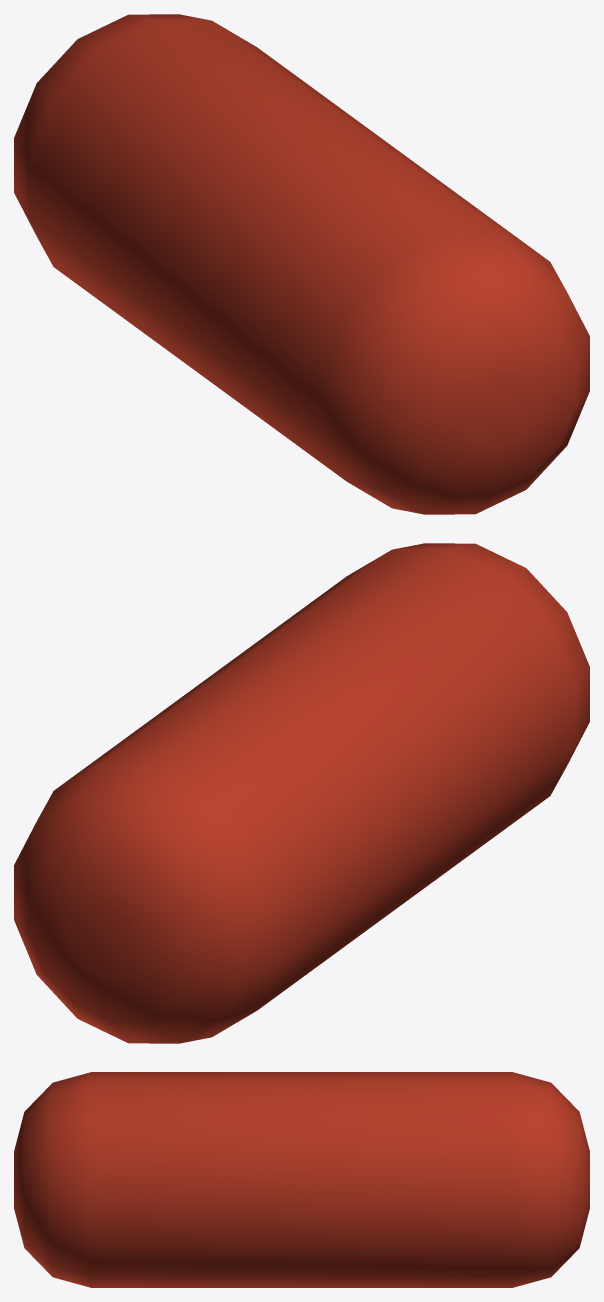
Rendered from Gas4_2.fbx.
3 views of the same model, one above another, from view 1: azimuth 30°, elevation 25°; view 2: azimuth 150°, elevation 25°; view 3: azimuth 270°, elevation 25° (orthographic). The views are drawn at different scales.
Visible parts, largest first — view 1: Plane.024; view 2: Plane.024; view 3: Plane.024.
Boxes of the visible parts, x1=… form: Plane.024: x1=14, y1=14, x2=589, y2=514; Plane.024: x1=14, y1=543, x2=589, y2=1043; Plane.024: x1=14, y1=1072, x2=589, y2=1287.
Bounding box in the file's own units: 292 × 300 × 800.
